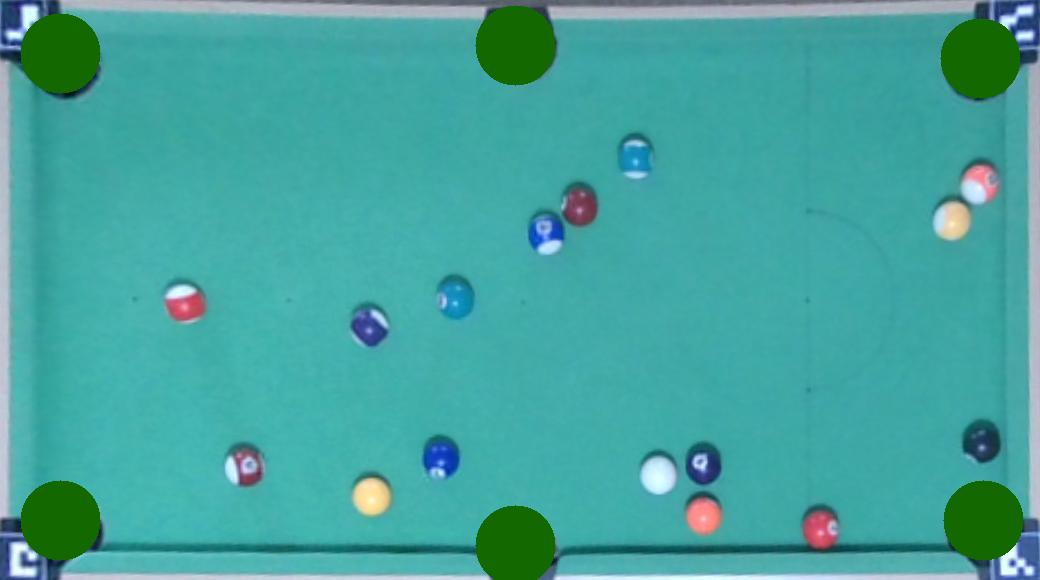Ball: (616, 134, 657, 180), (932, 199, 972, 244), (558, 184, 600, 226), (526, 211, 566, 255), (956, 163, 1000, 203), (224, 448, 266, 488), (164, 285, 208, 323), (803, 508, 842, 550), (350, 306, 390, 346), (350, 478, 392, 516), (436, 278, 474, 320), (422, 440, 460, 480), (961, 424, 1000, 462), (639, 456, 676, 496), (687, 496, 722, 535), (685, 448, 722, 483)
